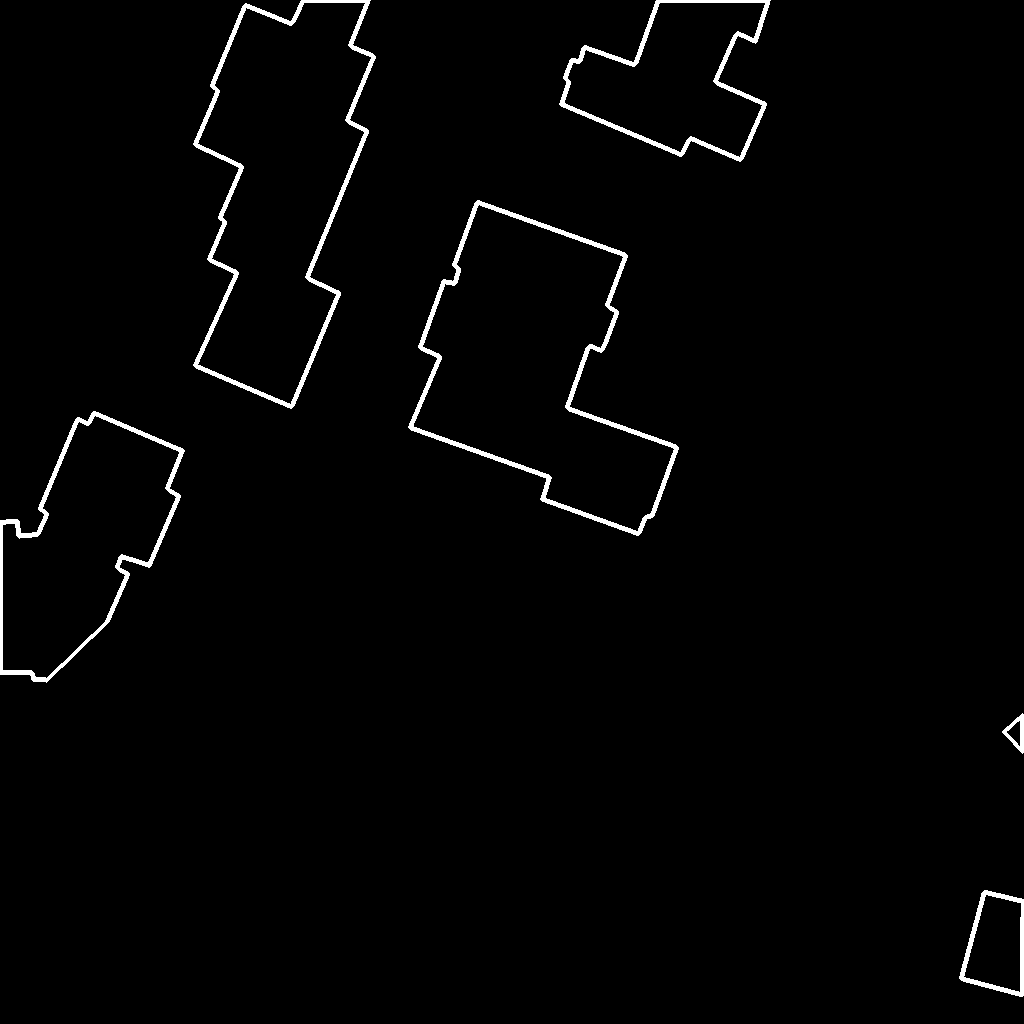building: (410, 202, 678, 535), (195, 0, 375, 408), (0, 413, 184, 681), (561, 0, 770, 161), (961, 715, 1024, 996)
